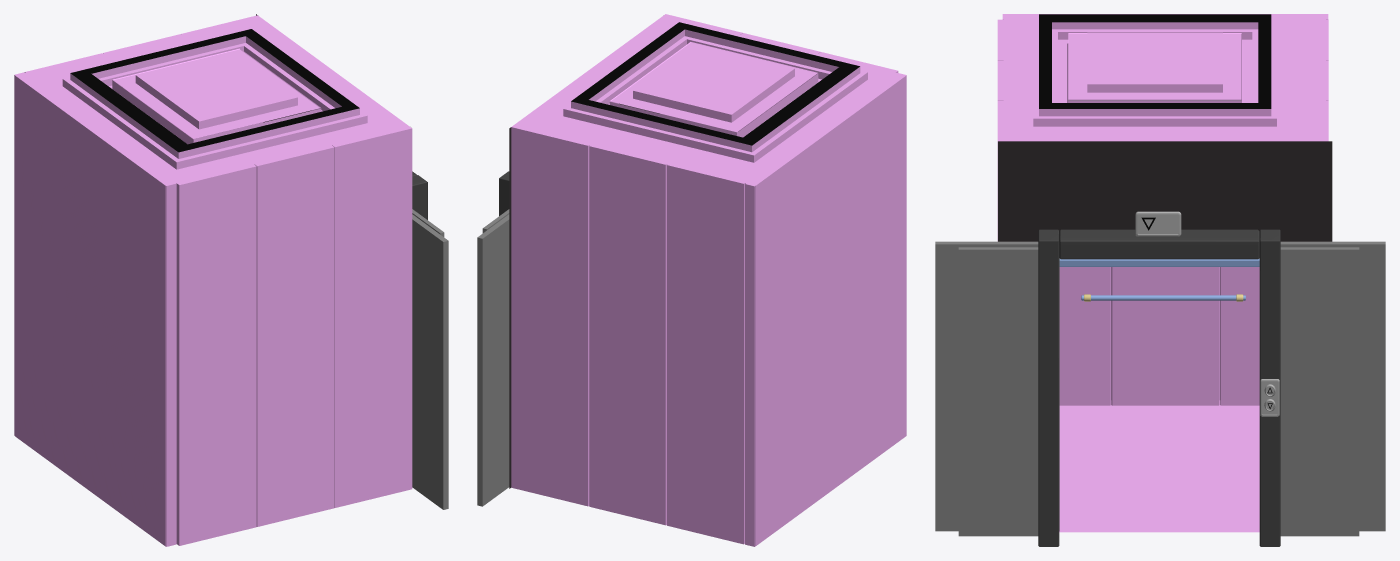
The model's file is ascenseurr_vrai.fbx.
3 views of the same model, side by side, from view 1: azimuth 30°, elevation 25°; view 2: azimuth 150°, elevation 25°; view 3: azimuth 270°, elevation 25° (orthographic). The views are drawn at different scales.
Parts seen in each view (by area): view 1: Object_17.001, Object_45.001, Object_22.001; view 2: Object_17.001, Object_53.001, Object_22.001; view 3: Object_17.001, Object_8.001, Object_11.001, Object_53.001, Object_45.001, Object_22.001, Object_50.001, Object_35.001, Object_56.001.
Part boxes in pixels (x1,y1,x2,y2): Object_17.001: [14, 14, 427, 546]; Object_45.001: [412, 214, 448, 509]; Object_22.001: [70, 29, 359, 152]; Object_17.001: [499, 14, 906, 546]; Object_53.001: [477, 214, 509, 506]; Object_22.001: [571, 22, 859, 145]; Object_17.001: [997, 14, 1332, 546]; Object_8.001: [958, 247, 1038, 536]; Object_11.001: [1280, 247, 1359, 536]; Object_53.001: [1280, 241, 1385, 531]; Object_45.001: [935, 241, 1059, 531]; Object_22.001: [1039, 14, 1271, 108]; Object_50.001: [1059, 259, 1259, 266]; Object_35.001: [1081, 295, 1245, 300]; Object_56.001: [1260, 379, 1279, 416].
Bounding box in the file's own units: 307 × 397 × 398.
